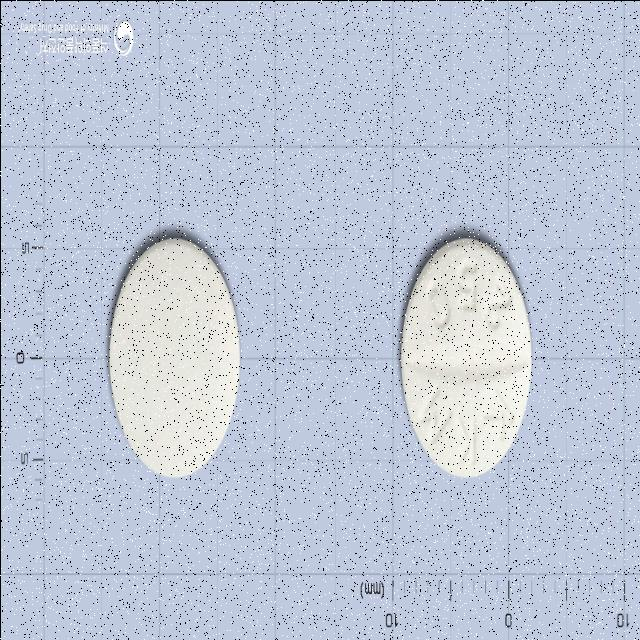Ciploxcin: (394, 230, 532, 483)
